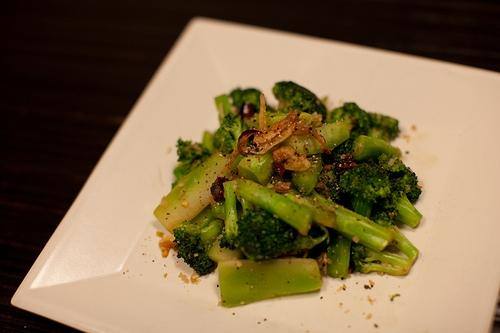broccoli: (266, 174, 394, 253), (154, 152, 239, 235), (218, 258, 323, 308), (236, 178, 313, 234), (237, 207, 314, 259), (173, 202, 224, 276), (339, 160, 392, 220), (323, 102, 374, 164), (376, 168, 423, 228), (279, 118, 350, 156), (272, 81, 328, 123), (237, 148, 276, 186), (176, 137, 212, 175), (350, 135, 402, 161), (326, 228, 352, 280), (246, 111, 316, 130), (367, 112, 400, 144), (220, 112, 250, 142), (229, 88, 262, 114), (214, 127, 237, 153), (214, 94, 232, 126), (212, 200, 226, 221)
